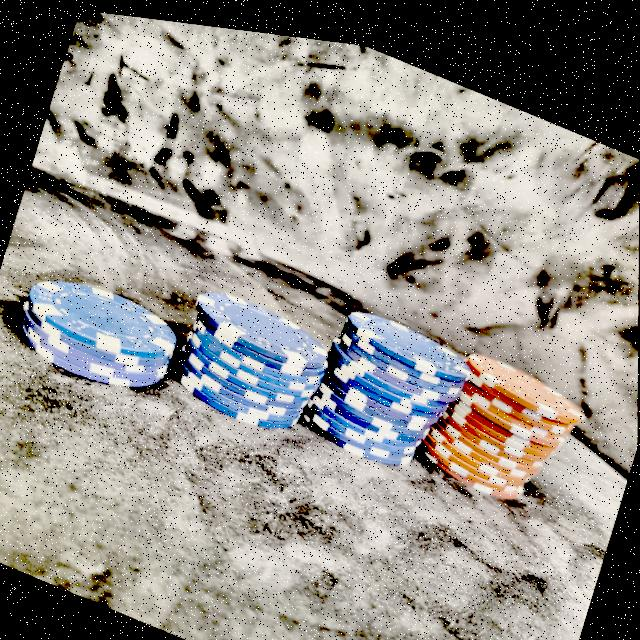Chip: (300, 271, 479, 490), (423, 312, 594, 516), (171, 259, 342, 446), (16, 252, 189, 406)
